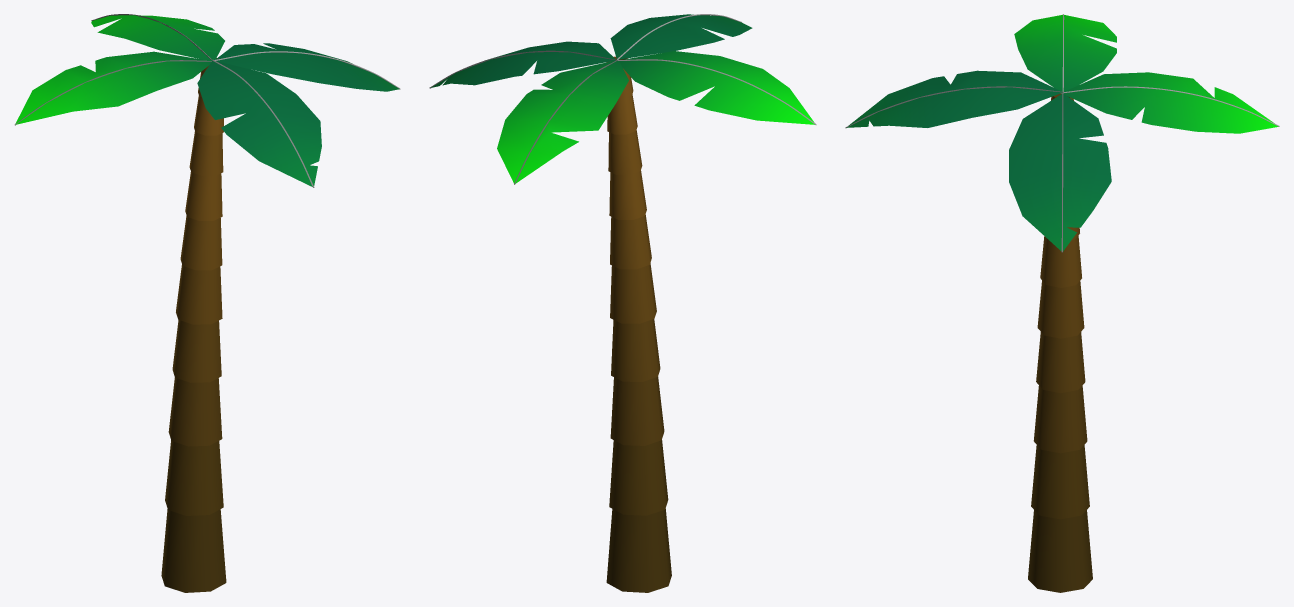
Rendered from PalmTree405.FBX.
3 views of the same model, side by side, from view 1: azimuth 30°, elevation 25°; view 2: azimuth 150°, elevation 25°; view 3: azimuth 270°, elevation 25° (orthographic). The views are drawn at different scales.
Parts seen in each view (by area): view 1: 4; view 2: 4; view 3: 4.
Part boxes in pixels (box(x1,y1,x2,y2)): 4: box(15, 15, 399, 592); 4: box(431, 14, 814, 592); 4: box(846, 14, 1278, 592).
Bounding box in the file's own units: 577 × 753 × 581.
Materials: 10 (9 with a texture image).
